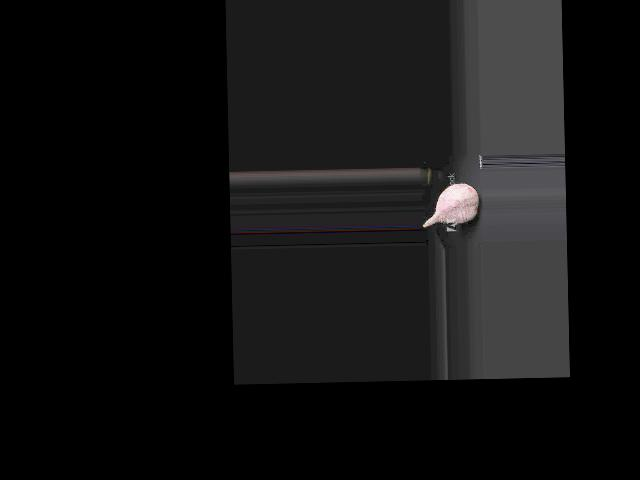beet: (422, 182, 479, 226)
